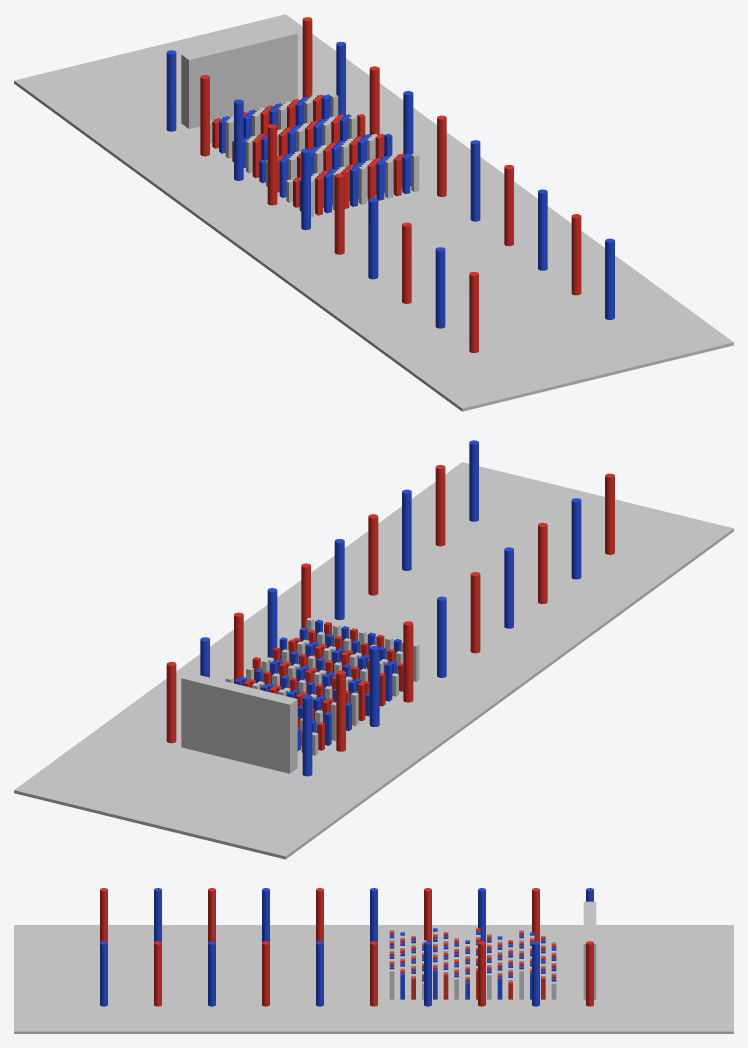
File: occlusion.gltf
3 views of the same model, one above another, from view 1: azimuth 30°, elevation 25°; view 2: azimuth 150°, elevation 25°; view 3: azimuth 270°, elevation 25° (orthographic). The views are drawn at different scales.
Parts seen in each view (by area): view 1: Exhibit; view 2: Exhibit; view 3: Exhibit.
Part boxes in pixels (bbox=[...]): Exhibit: bbox=[14, 14, 733, 411]; Exhibit: bbox=[14, 440, 733, 859]; Exhibit: bbox=[14, 888, 733, 1033].
Bounding box in the file's own units: 14 × 3.95 × 40.
